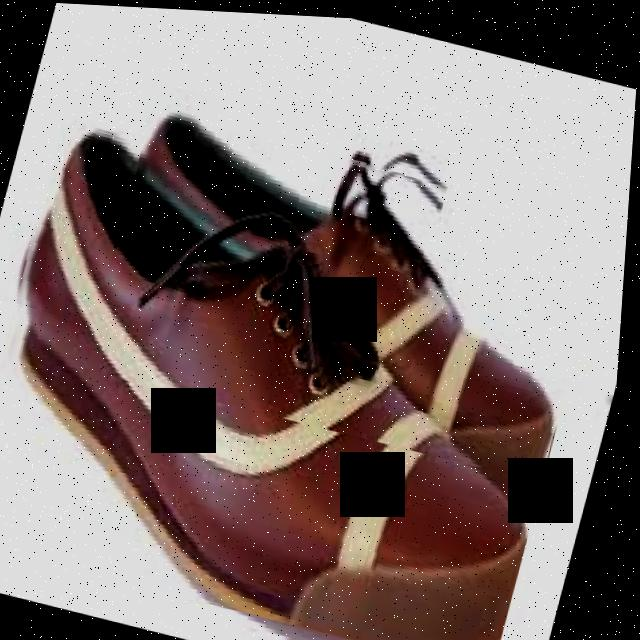shoe: (0, 114, 611, 640), (85, 95, 620, 479)
